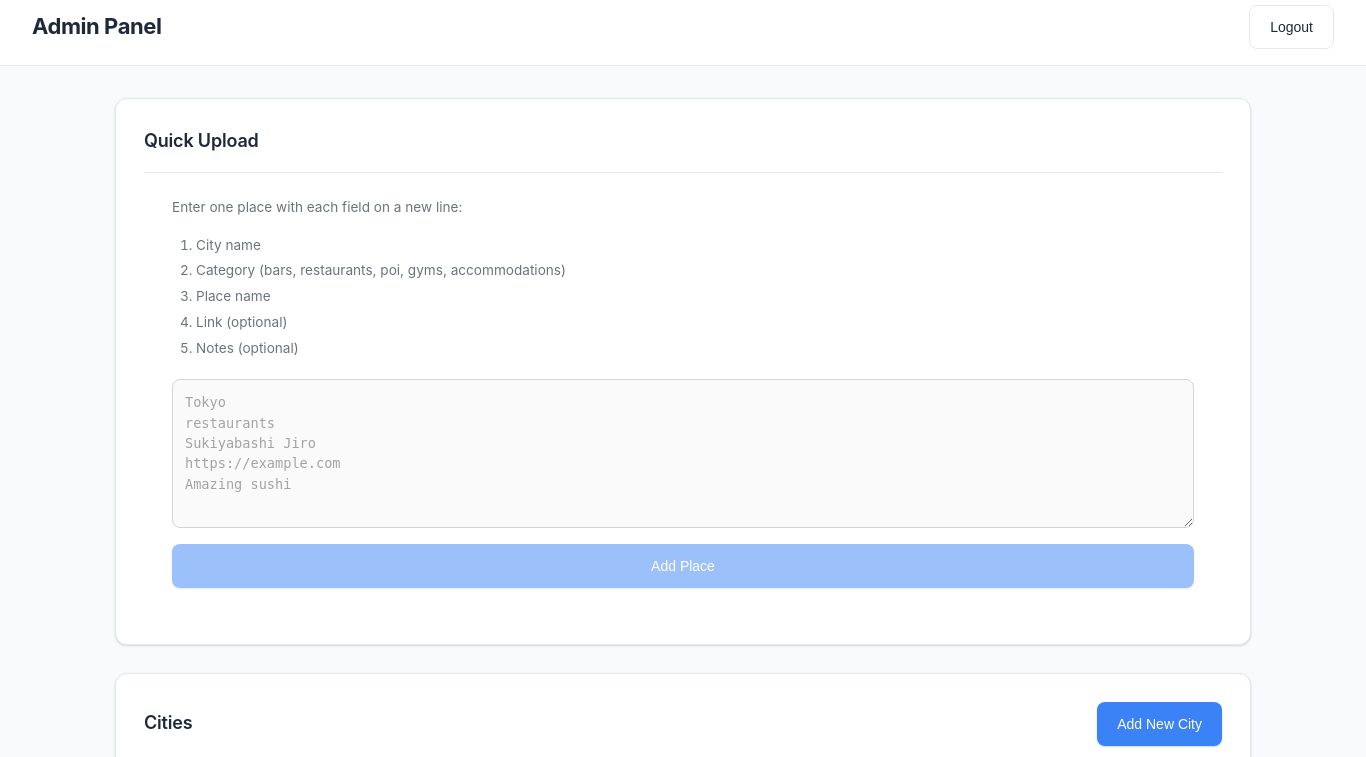
Test case: AdminPanel Component › should return to dashboard when city form cancel is clicked
Navigate to create city
What coordinates should you click on to do the following:
click the button "Add New City"
I would click on:
 (1160, 724)
Its box is [1097,702,1222,746].
(page scrolled)
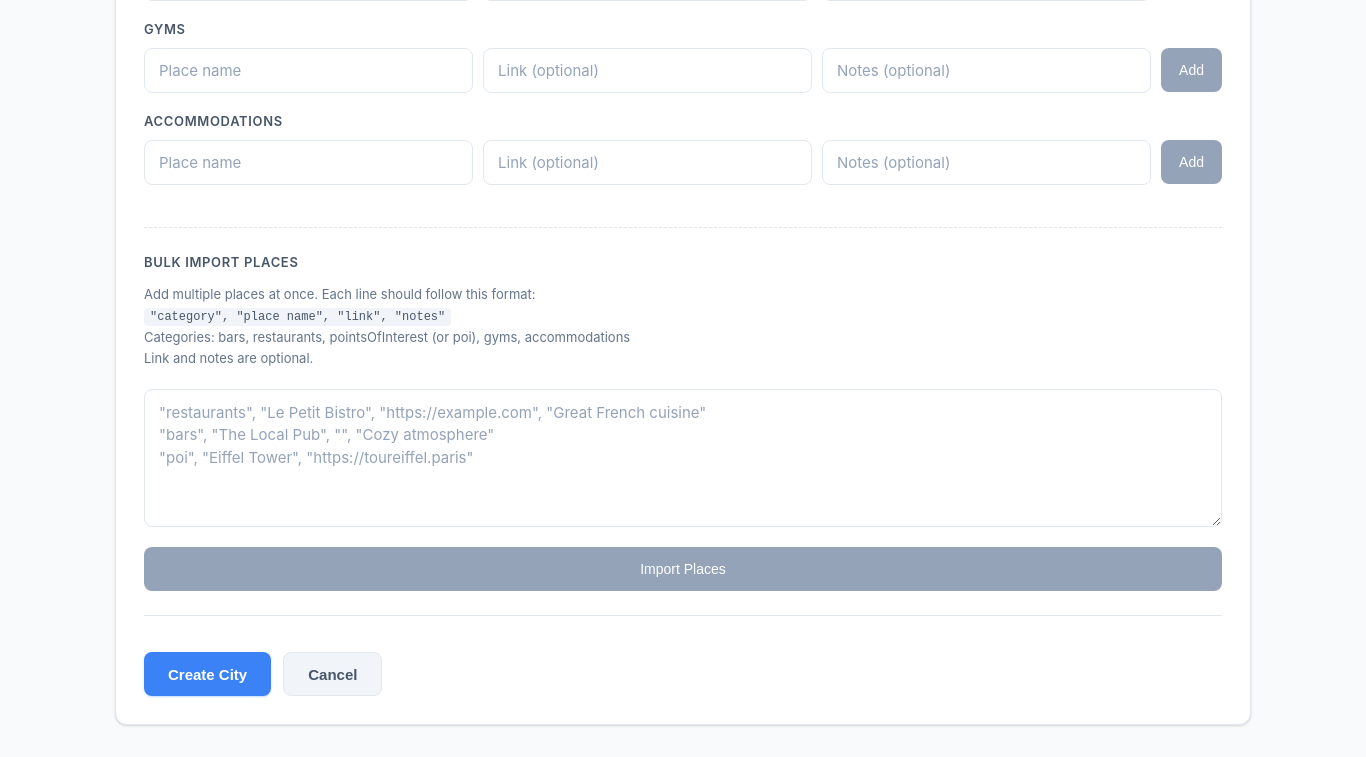
Click cancel on form
What coordinates should you click on to do the following:
click the button "Cancel"
I would click on:
 (333, 674)
Its box is [283,652,382,696].
(page scrolled)
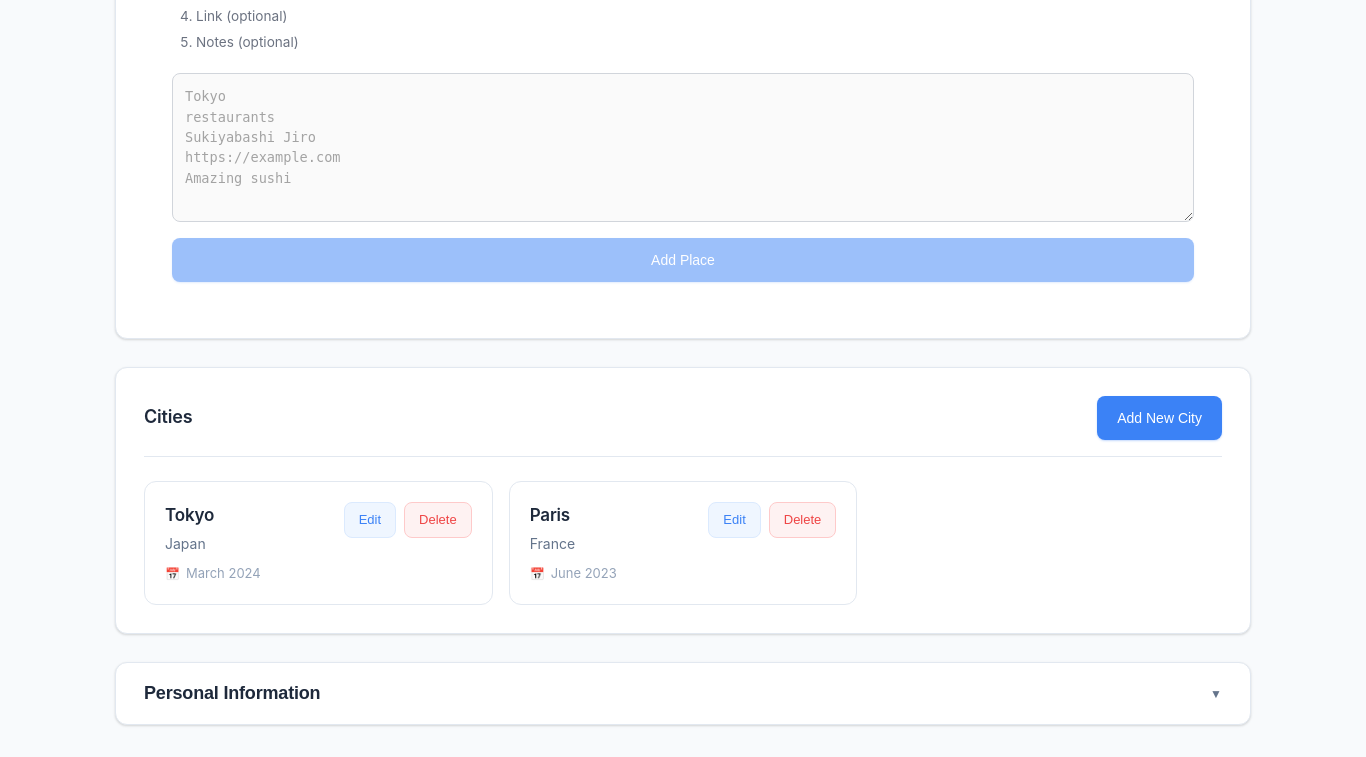
Check: the heading "Personal Information" is shown, box [144,683,320,704]
